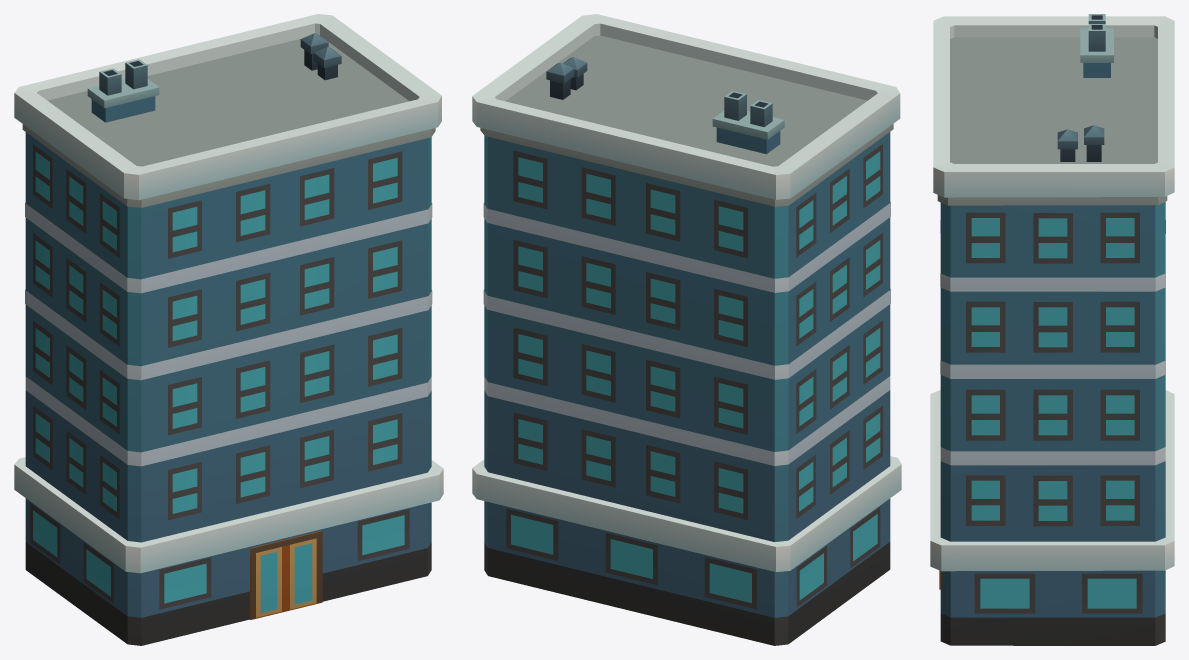
The model's file is Building_cartoon_16.fbx.
3 renders of one model, left to right at view 1: azimuth 30°, elevation 25°; view 2: azimuth 150°, elevation 25°; view 3: azimuth 270°, elevation 25°, orthographic.
Visible parts, largest first — view 1: Building_cartoon_16; view 2: Building_cartoon_16; view 3: Building_cartoon_16.
Boxes of the visible parts, x1=… form: Building_cartoon_16: x1=14, y1=14, x2=443, y2=645; Building_cartoon_16: x1=472, y1=14, x2=901, y2=645; Building_cartoon_16: x1=930, y1=14, x2=1174, y2=645.
Size of the model in its own units: 1189 by 1813 by 788.
